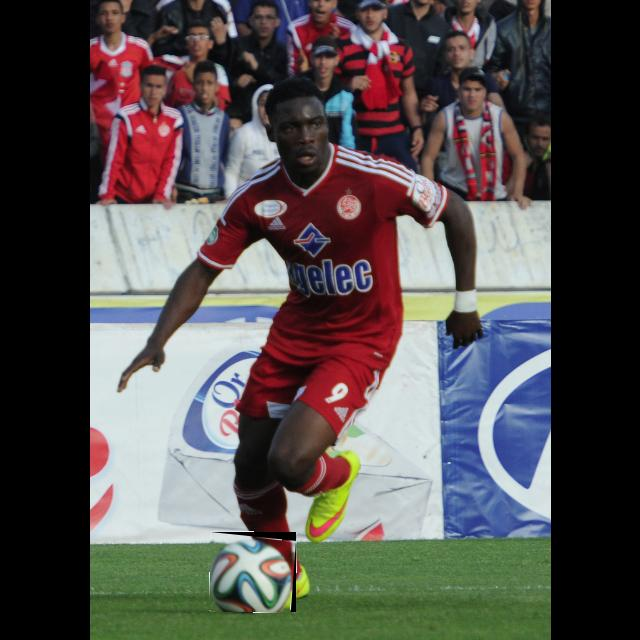Football: (210, 532, 296, 612)
